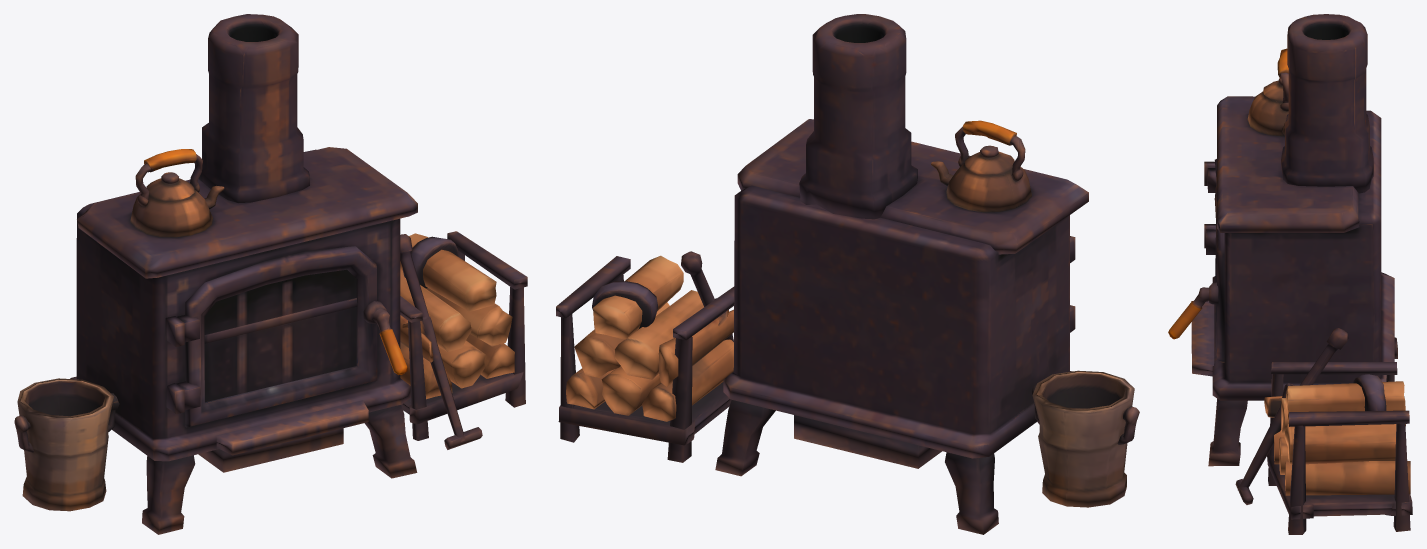
File: FURN_stove.glb
The picture shows the model from 3 angles, left to right: view 1: azimuth 30°, elevation 25°; view 2: azimuth 150°, elevation 25°; view 3: azimuth 270°, elevation 25°; orthographic projection. The views are drawn at different scales.
Parts seen in each view (by area): view 1: geometry_0; view 2: geometry_0; view 3: geometry_0.
Part boxes in pixels (x1,y1,x2,y2): geometry_0: (14,14,527,534); geometry_0: (556,14,1139,534); geometry_0: (1168,14,1412,534).
Size of the model in its own units: 0.9585 by 0.7627 by 0.4307.
Materials: 1 (1 with a texture image).
